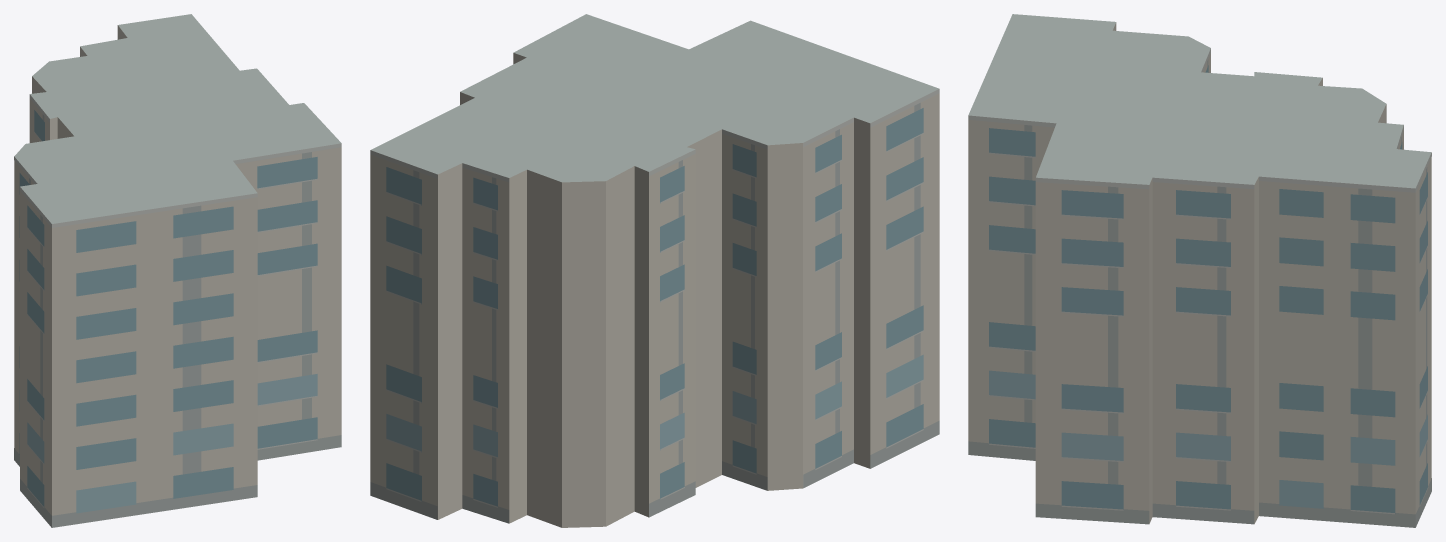
The model's file is survey-upis-32652448.glb.
3 views of the same model, side by side, from view 1: azimuth 30°, elevation 25°; view 2: azimuth 150°, elevation 25°; view 3: azimuth 270°, elevation 25° (orthographic). The views are drawn at different scales.
Parts seen in each view (by area): view 1: survey-upis-32652448.tmp; view 2: survey-upis-32652448.tmp; view 3: survey-upis-32652448.tmp.
Part boxes in pixels (x1,y1,x2,y2): survey-upis-32652448.tmp: (14,14,341,527); survey-upis-32652448.tmp: (370,14,939,527); survey-upis-32652448.tmp: (968,14,1431,527).
Size of the model in its own units: 20.95 by 19 by 23.52.
